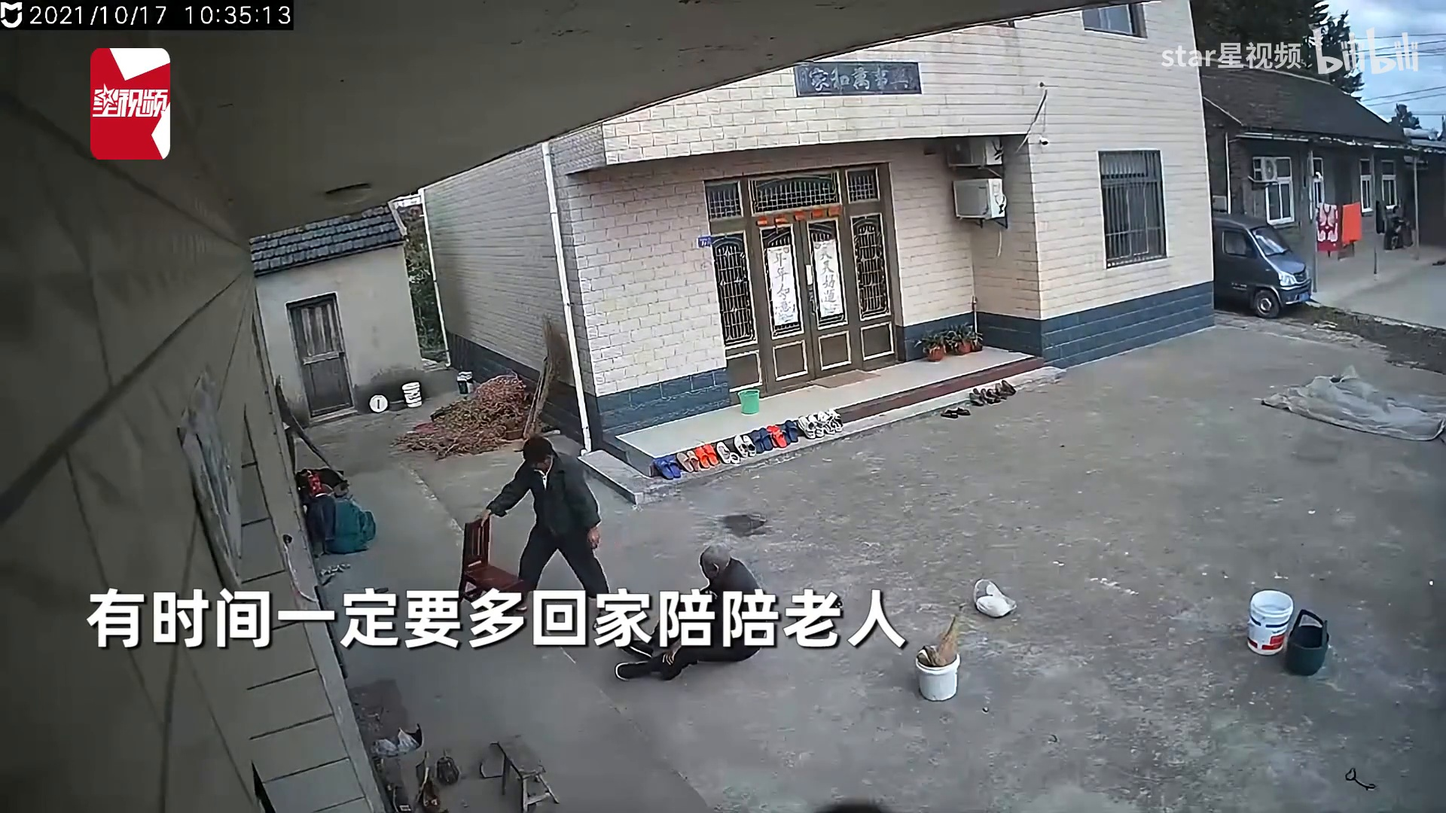half_up: (606, 543, 776, 681)
stand: (482, 433, 609, 626)
